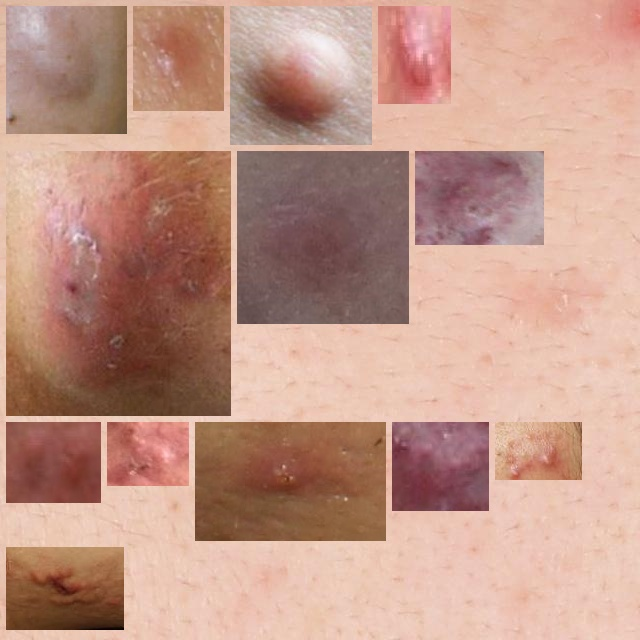nodule: (14, 159, 223, 408), (245, 159, 401, 316), (203, 430, 378, 533), (238, 14, 364, 137), (14, 14, 119, 126), (423, 159, 536, 237), (14, 555, 116, 622), (141, 14, 216, 103), (400, 430, 481, 503), (14, 422, 93, 495), (386, 14, 443, 96), (115, 430, 181, 478), (503, 430, 574, 472)
